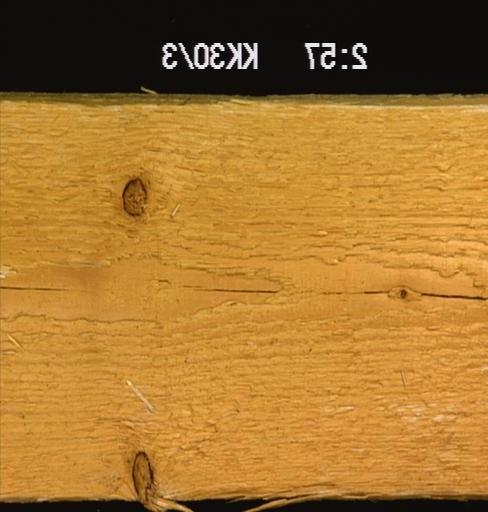dry_knot: (121, 174, 149, 219)
edge_knot: (129, 448, 156, 499)
split: (176, 272, 483, 296), (0, 273, 96, 296)
wave: (1, 93, 486, 108)
